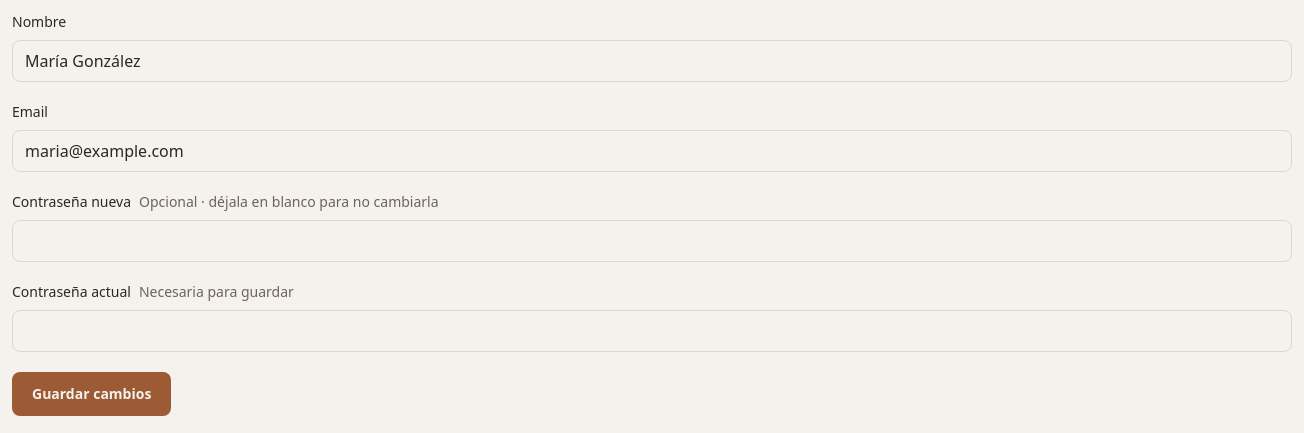
AccountForm › muestra el motivo que devuelve el servidor y no navega
In the password field labelled "Contraseña actual": (652, 331) [12,310,1292,352], type "la que no es"
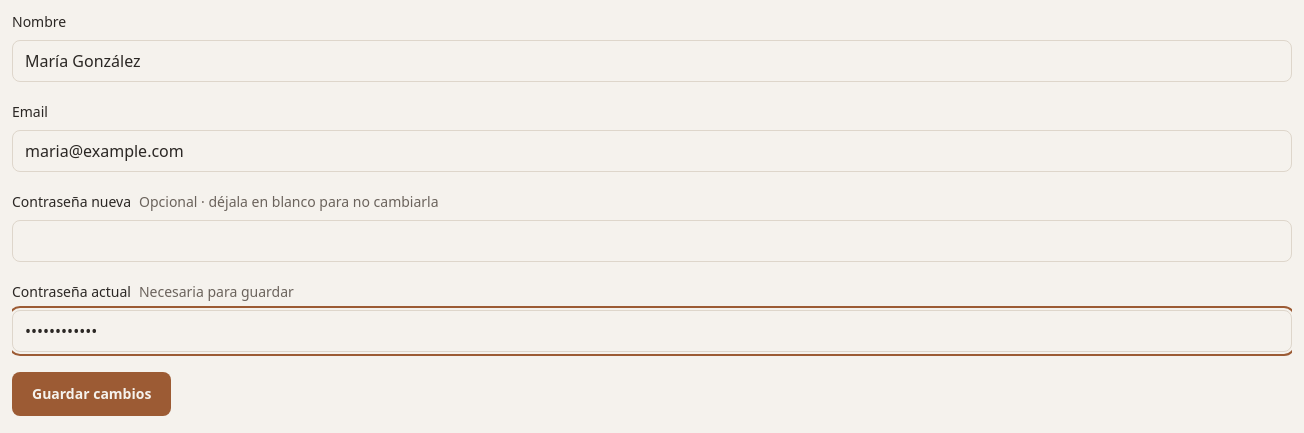
Click the button "Guardar cambios": (92, 394) [12,372,171,416]
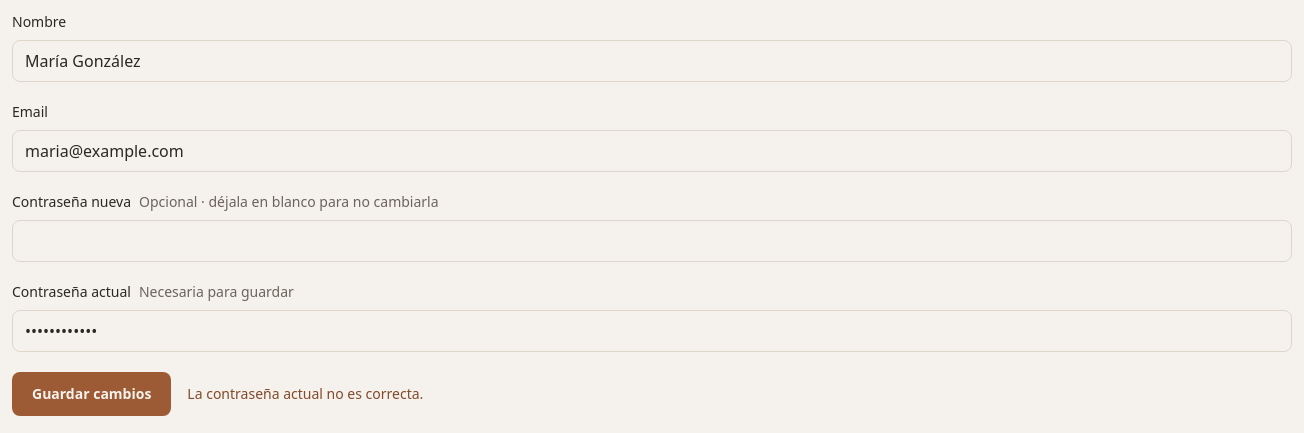
Check: the text "La contraseña actual no es correcta." is shown, box [187,384,423,404]
